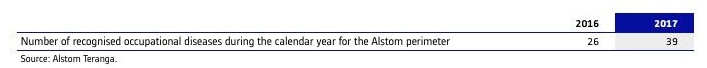table: (0, 0, 707, 68)
